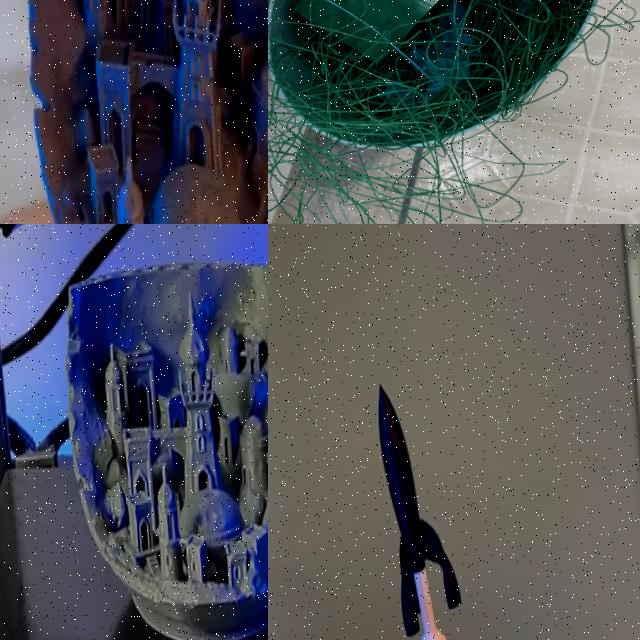spaghetti: (268, 0, 599, 152), (268, 76, 519, 224)
